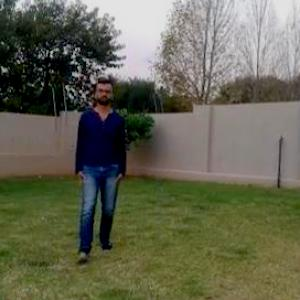follow: (75, 72, 121, 257)
